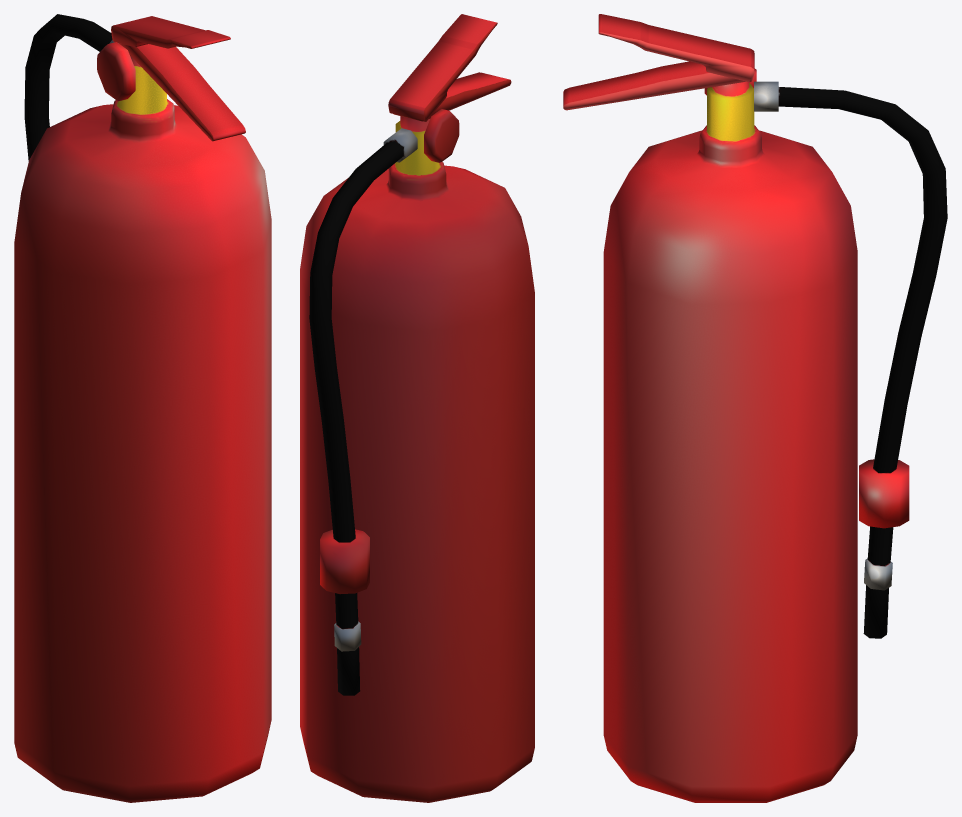
Rendered from redCanInBox.fbx.
3 views of the same model, side by side, from view 1: azimuth 30°, elevation 25°; view 2: azimuth 150°, elevation 25°; view 3: azimuth 270°, elevation 25° (orthographic). The views are drawn at different scales.
Visible parts, largest first — view 1: Cylinder.001; view 2: Cylinder.001; view 3: Cylinder.001.
Boxes of the visible parts, box(x1,y1,x2,y2) form: Cylinder.001: box(14, 14, 271, 802); Cylinder.001: box(300, 14, 534, 802); Cylinder.001: box(563, 14, 947, 802).
Size of the model in its own units: 23.06 by 77.26 by 36.69.
1 material, 1 textured.
